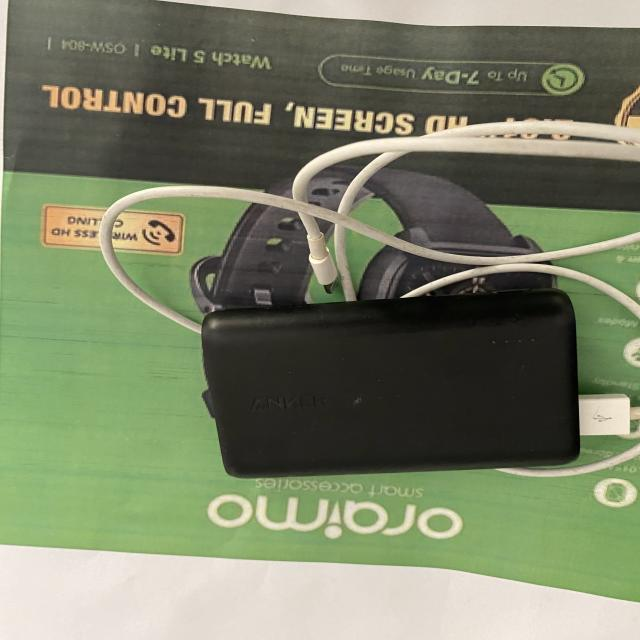Watch 5 Lite OSW-804: (32, 30, 279, 75)
